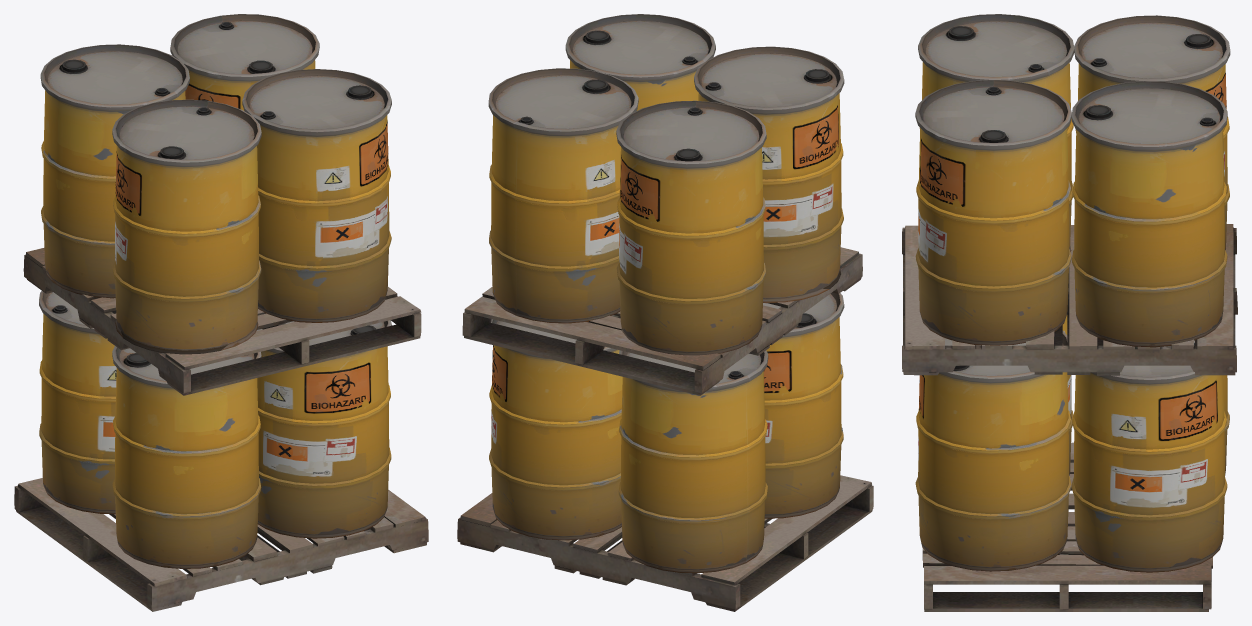
Rendered from water_barrel_cluster2.glb.
3 views of the same model, side by side, from view 1: azimuth 30°, elevation 25°; view 2: azimuth 150°, elevation 25°; view 3: azimuth 270°, elevation 25° (orthographic). The views are drawn at different scales.
Visible parts, largest first — view 1: water_barrel_cluster2; view 2: water_barrel_cluster2; view 3: water_barrel_cluster2.
Part boxes in pixels (x1,y1,x2,y2): water_barrel_cluster2: (14, 14, 428, 611); water_barrel_cluster2: (457, 14, 873, 611); water_barrel_cluster2: (902, 14, 1237, 611).
Bounding box in the file's own units: 1.43 × 2.16 × 1.43.
2 materials, 2 textured.
